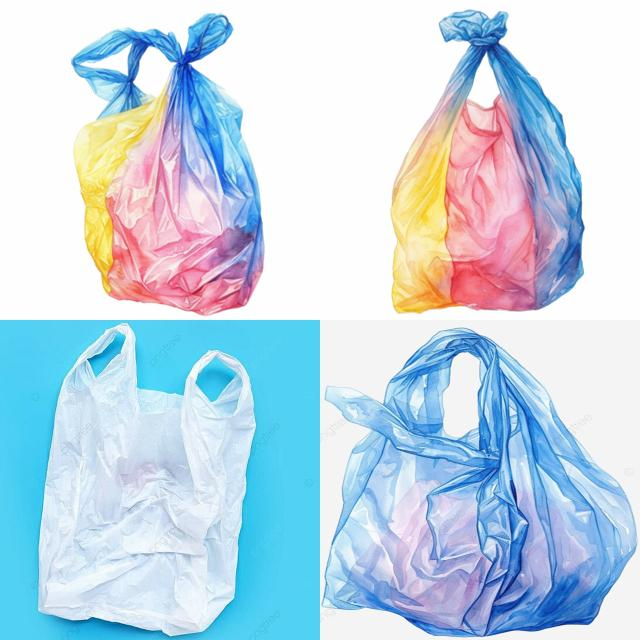Single-layer Plastic: (324, 329, 636, 636), (39, 324, 255, 635), (391, 11, 584, 312), (72, 14, 264, 315)
